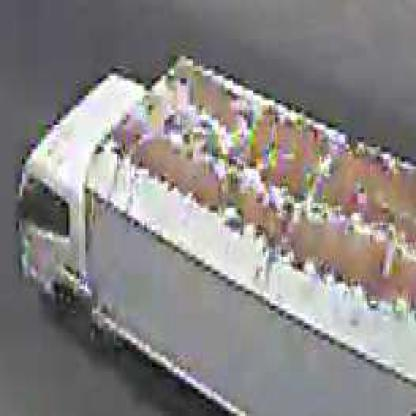truck: (20, 53, 415, 415)
